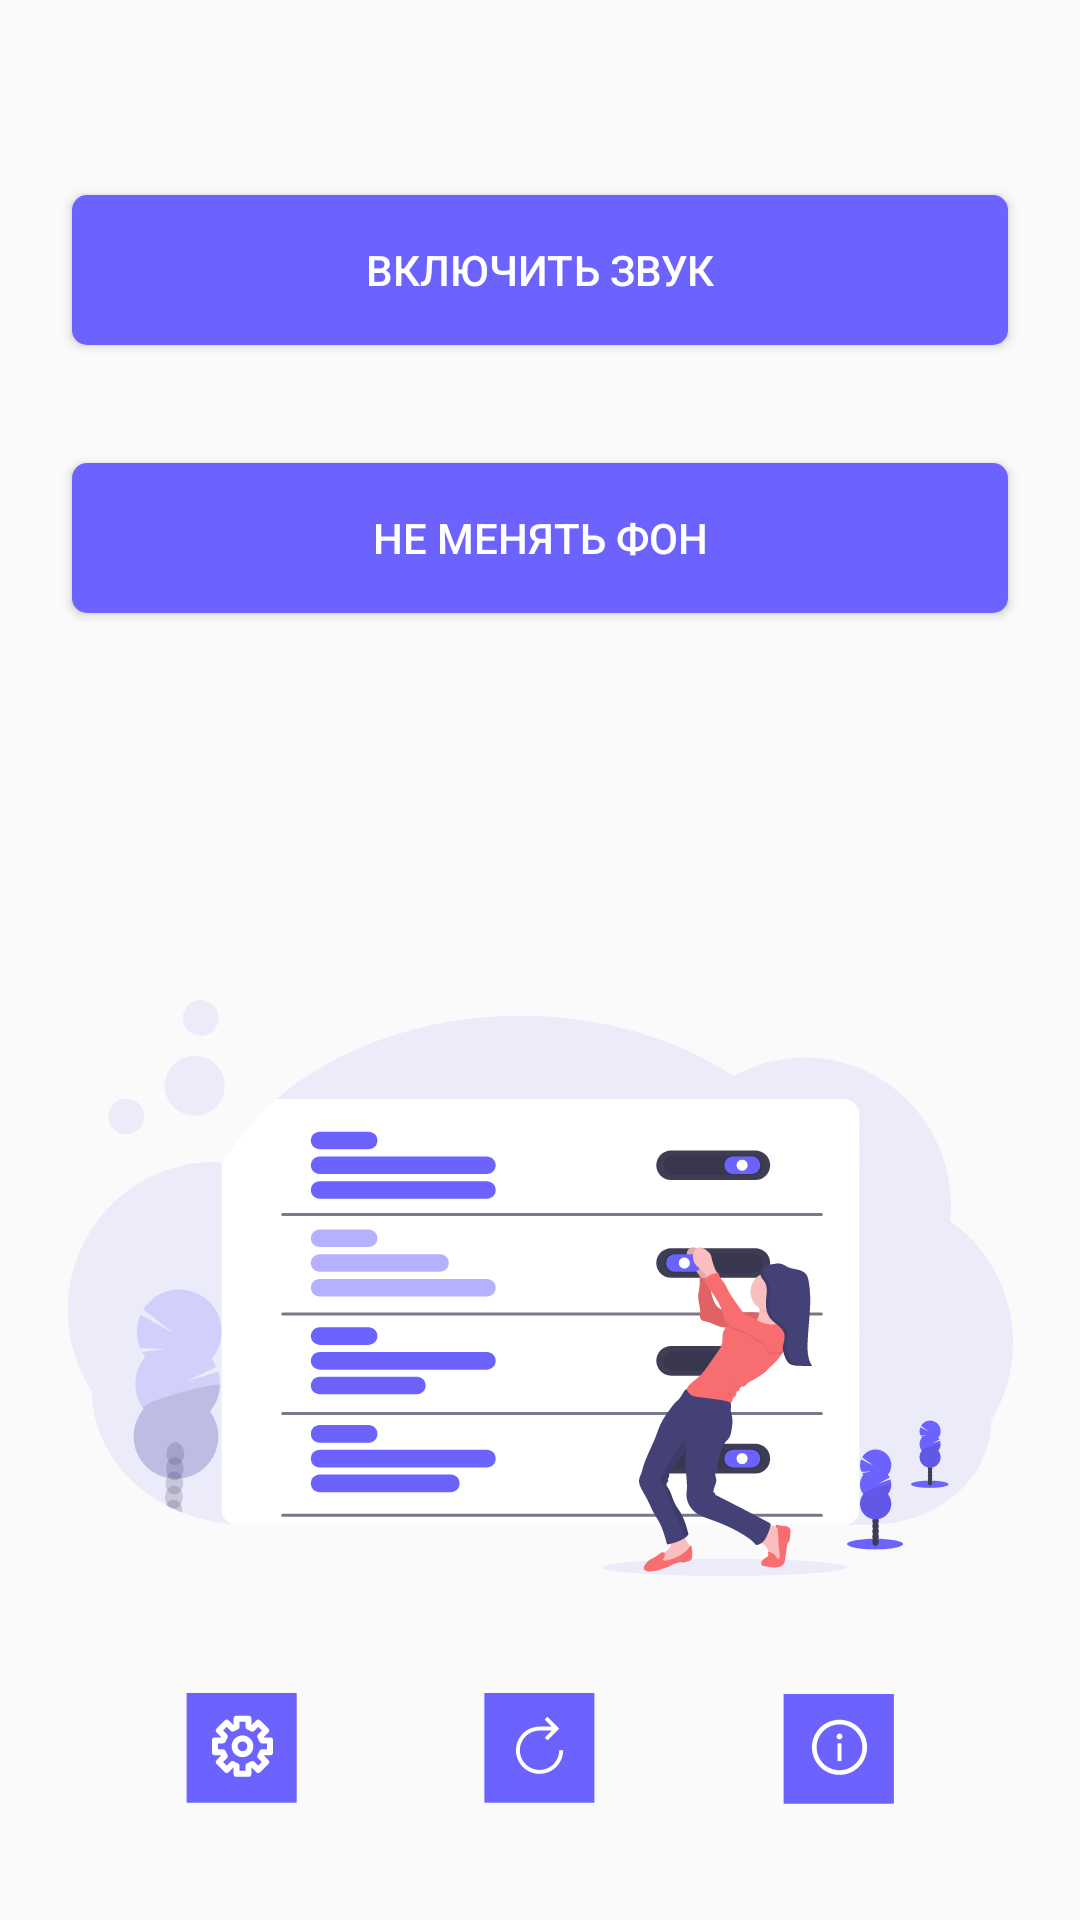

Icon bounding boxes for this 1080 x 1920 phone screenshot, format (x1, y1, x2, y2):
info: (783, 1694, 894, 1804)
restart: (484, 1693, 595, 1803)
settings: (186, 1693, 297, 1803)
